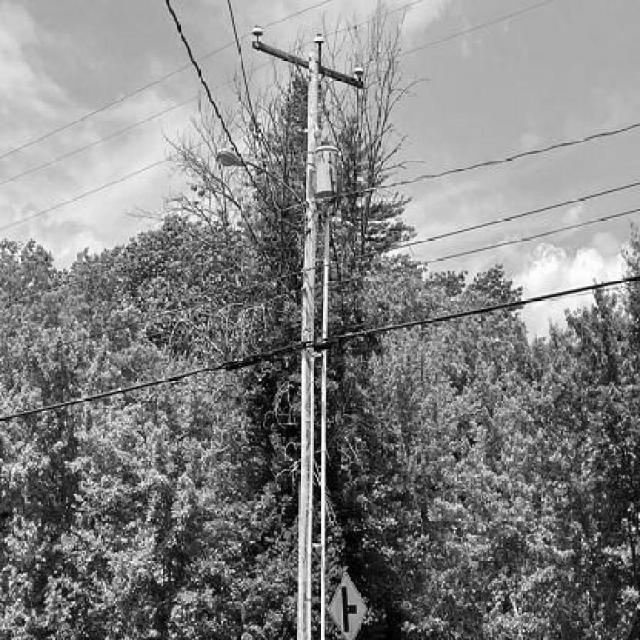Pole: (296, 39, 321, 639)
